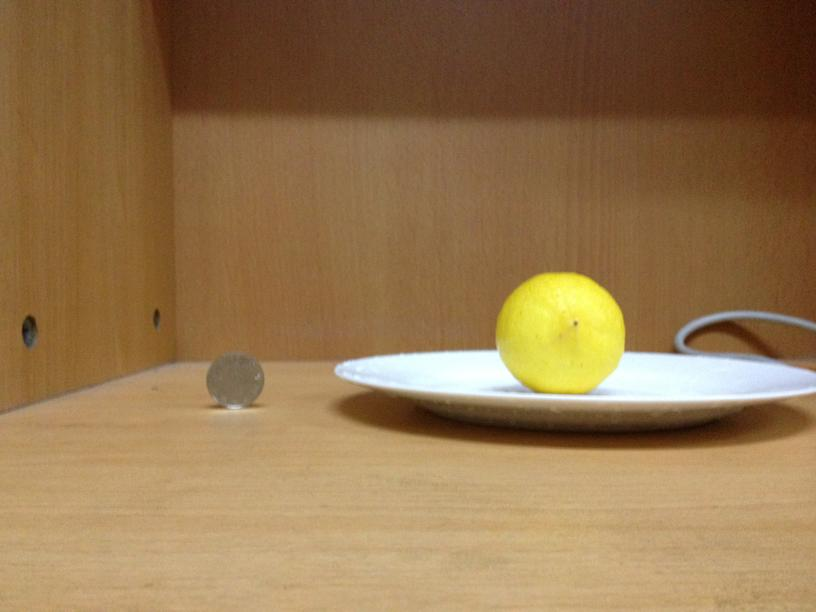coin: (205, 352, 264, 407)
lemon: (492, 271, 626, 393)
